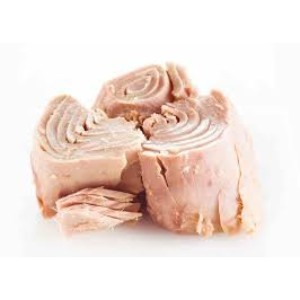tuna_brain food: (44, 103, 258, 217)
